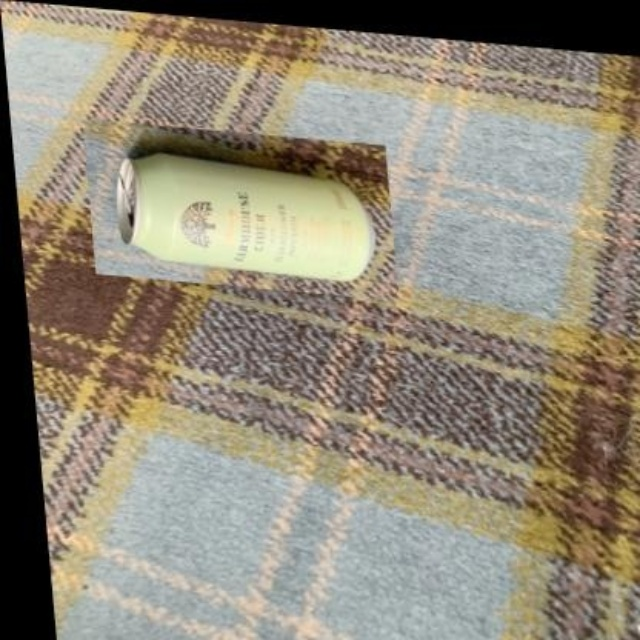trash: (117, 152, 372, 280)
